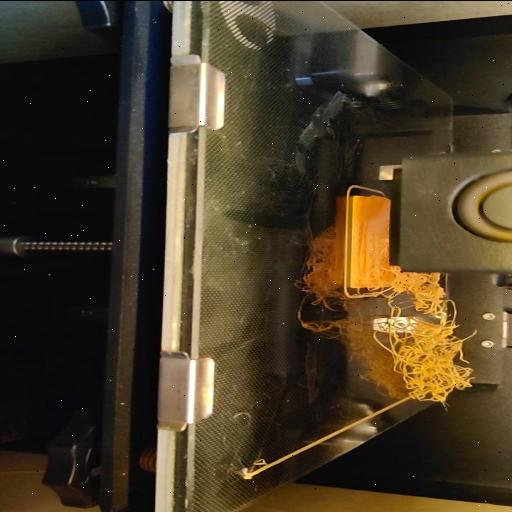spaghetti: (365, 268, 480, 404)
